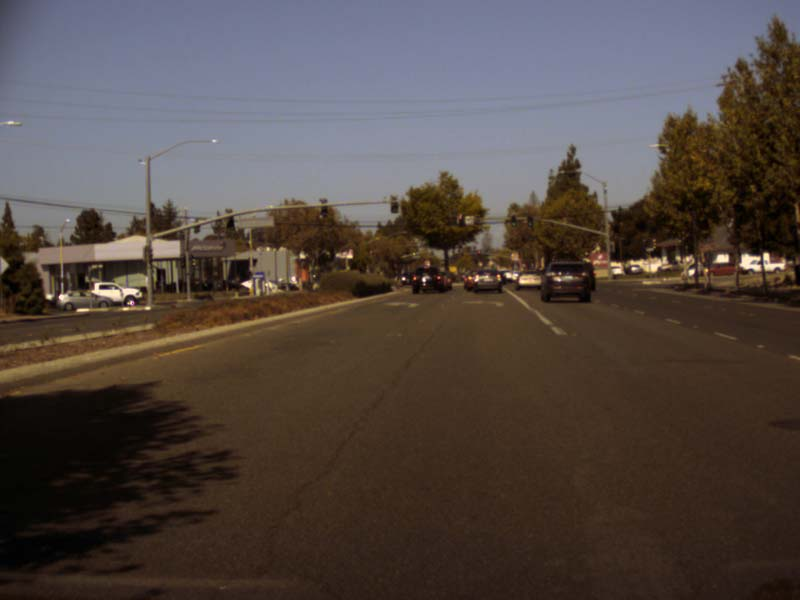Green: (526, 215, 531, 226), (511, 214, 515, 226)
Red: (458, 213, 463, 227)
